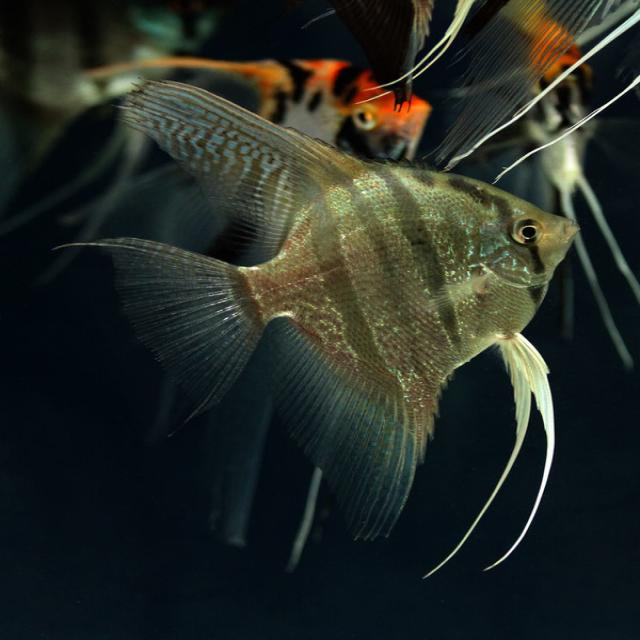AngelFish: (69, 81, 585, 575)
